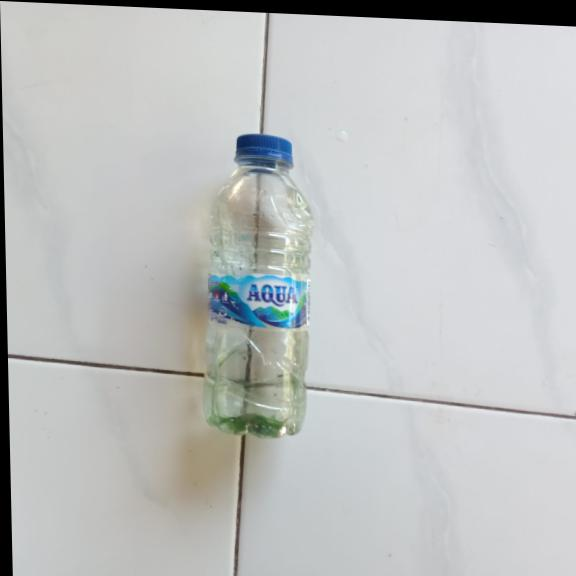Plastik: (196, 129, 319, 439)
